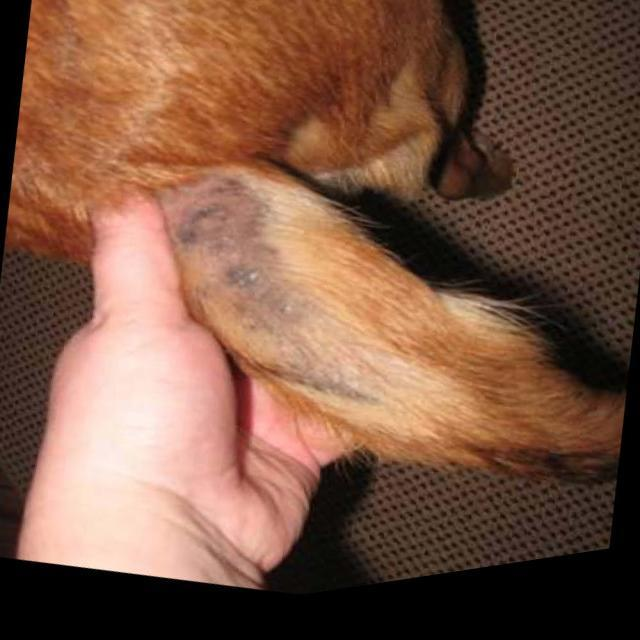allergic dermatitis: (171, 170, 284, 309)
